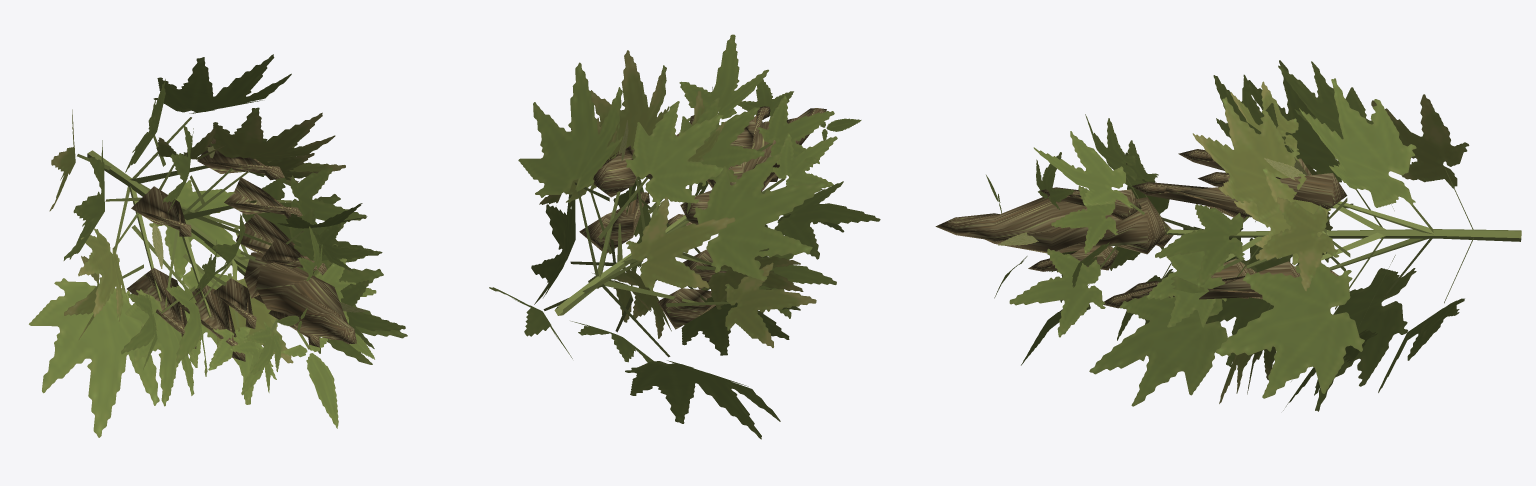
File: p_dark_hybrid_ripe_c1_cards.obj
3 renders of one model, left to right at view 1: azimuth 30°, elevation 25°; view 2: azimuth 150°, elevation 25°; view 3: azimuth 270°, elevation 25°, orthographic. The views are drawn at different scales.
Size of the model in its own units: 1.32 by 1.49 by 1.65.
1 material, 1 textured.
